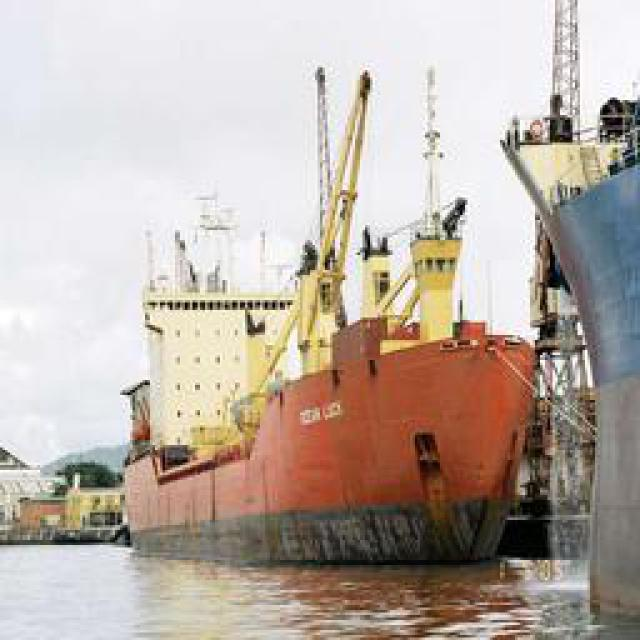Ship: (134, 9, 547, 569)
